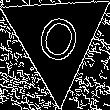O_SW: (29, 6, 84, 71)
